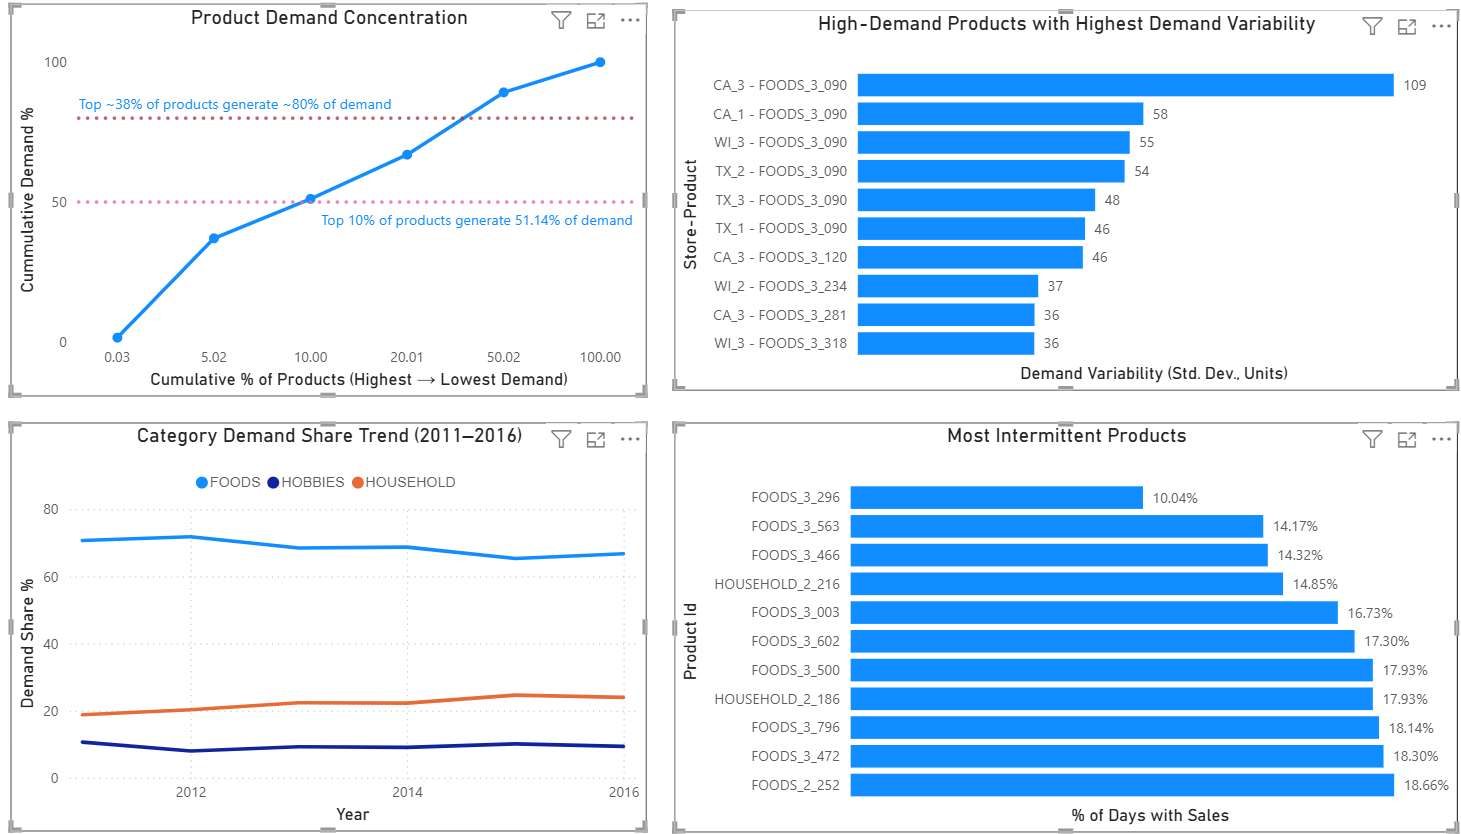

The dashboard page shown, as its layout file describes it:
{"tool":"powerbi","page":{"name":"Detailed Analysis","canvas":[1280,720],"ordinal":1},"visuals":[{"type":"lineChart","title":"Product Demand Concentration","fields":{"Category":["Product_Concentration. Product %"],"Y":["Sum(Product_Concentration.Cummulative Demand %)"]},"box":[48.8,7.5,535,330],"z":0},{"type":"clusteredBarChart","title":"High-Demand Products with Highest Demand Variability","fields":{"Category":["Inventory_Risk.Store_Product"],"Y":["Sum(Inventory_Risk.Demand_std_dev)"]},"box":[606.7,12.2,658.9,320],"z":1000},{"type":"lineChart","title":"Category Demand Share Trend (2011–2016)","fields":{"Category":["Category_Trend.Year"],"Series":["Category_Trend.Category"],"Y":["Sum(Category_Trend.Share %)"]},"box":[48.8,360,535,343.8],"z":2000},{"type":"clusteredBarChart","title":"Most Intermittent Products","fields":{"Category":["Demand_Intermittency.Item_id"],"Y":["Sum(Demand_Intermittency.Selling Day %)"]},"box":[606.7,360,658.9,344.4],"z":3000}]}

Visuals, with their boxes in screenshot pixels (x1, y1, x2, y2), scaled from the page's 1280x720 canvas onto the 1461x834 screenshot:
"Product Demand Concentration" lineChart: 56:9:666:391
"High-Demand Products with Highest Demand Variability" clusteredBarChart: 692:14:1445:385
"Category Demand Share Trend (2011–2016)" lineChart: 56:417:666:815
"Most Intermittent Products" clusteredBarChart: 692:417:1445:816
